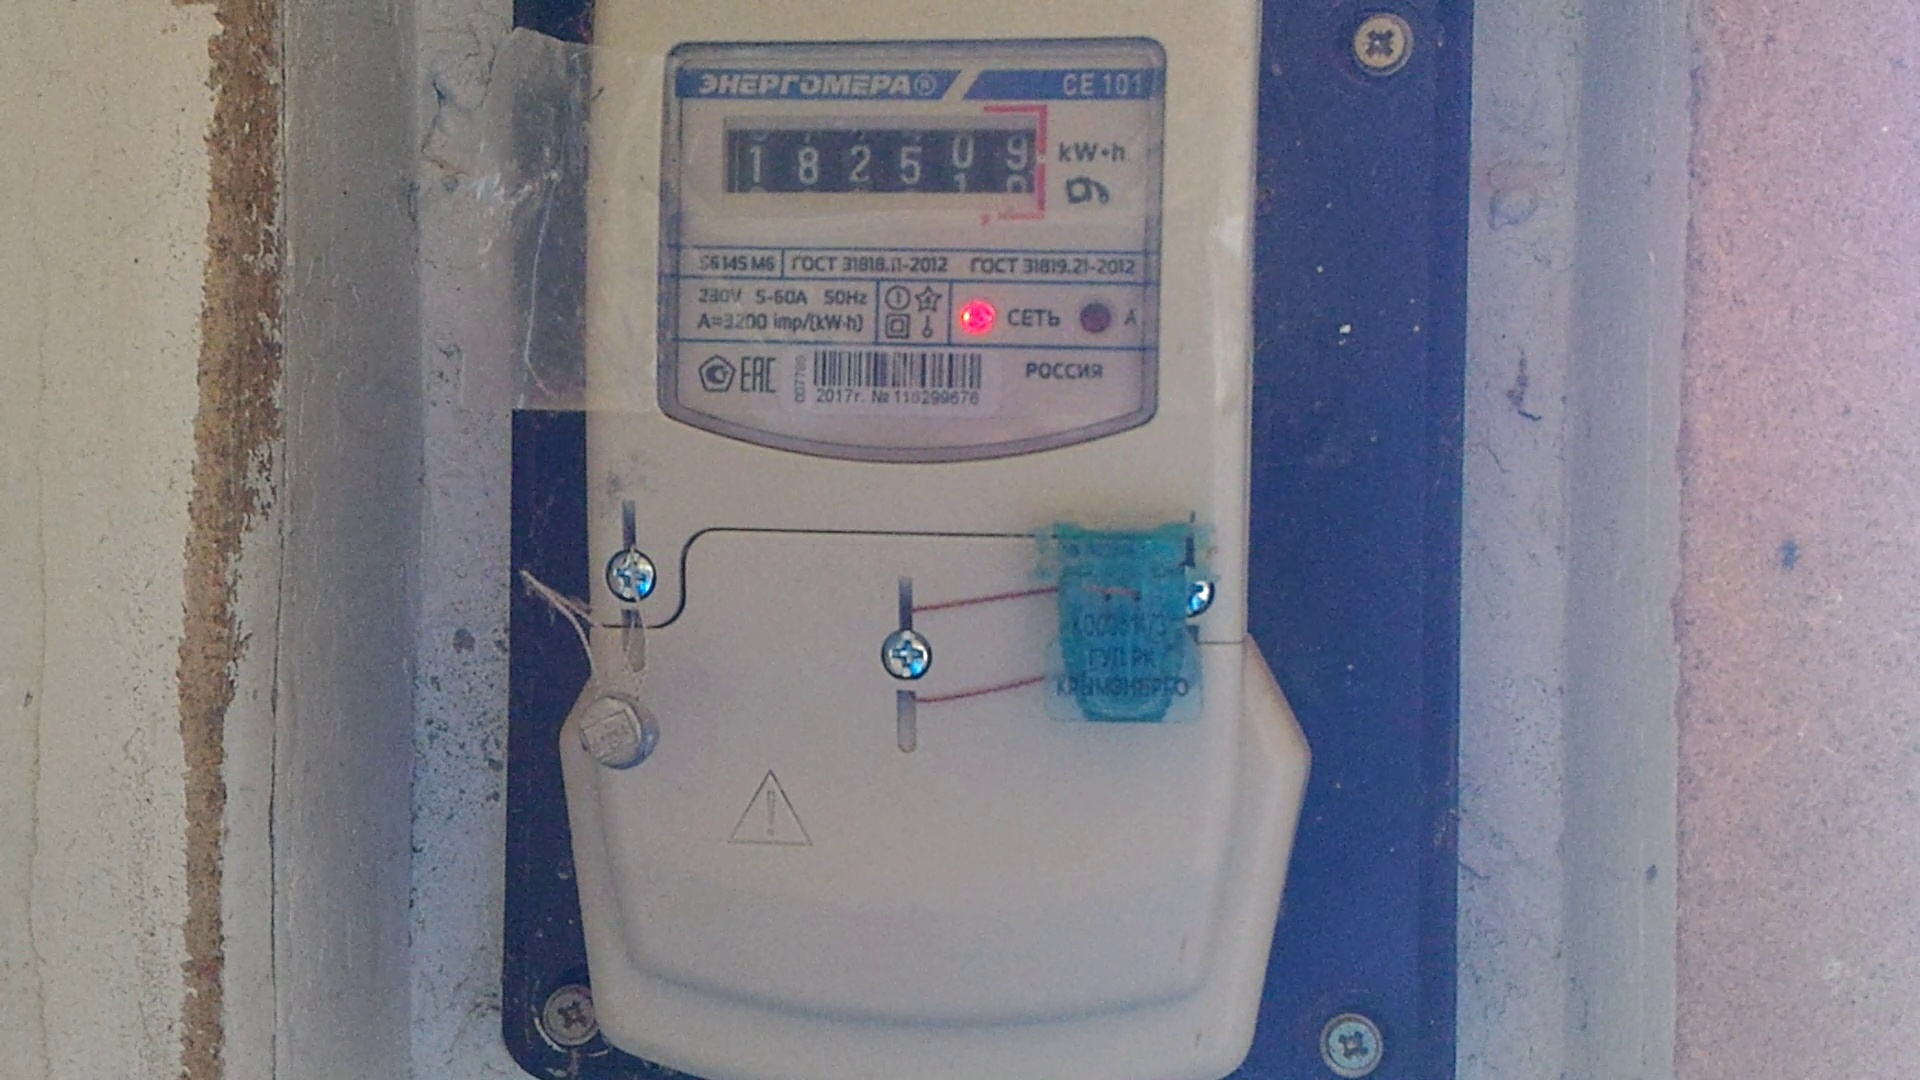counter: (578, 0, 1270, 1065)
counter_screen: (725, 127, 1036, 195)
